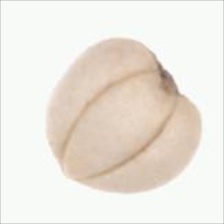L5: (54, 68, 183, 182), (147, 48, 189, 104)
L6: (43, 35, 204, 197)
